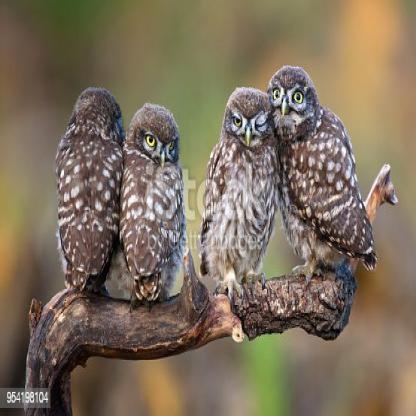owl: (273, 40, 370, 284), (198, 34, 271, 292), (54, 43, 116, 306), (117, 82, 176, 316)
